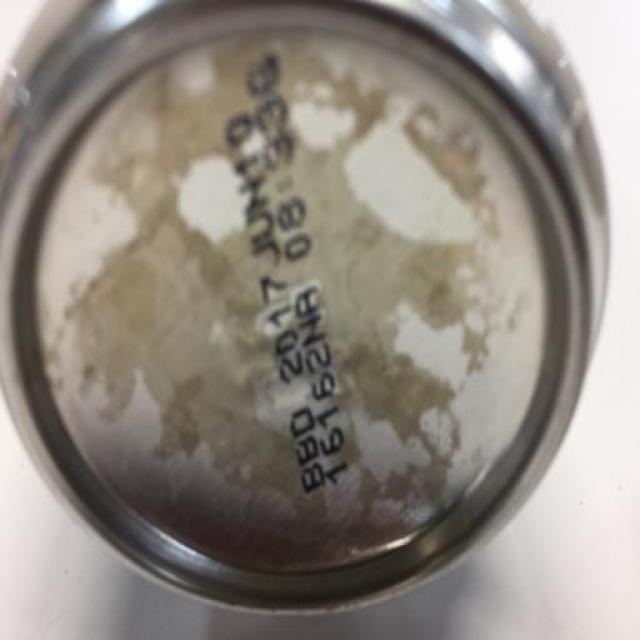metel: (2, 3, 622, 623)
